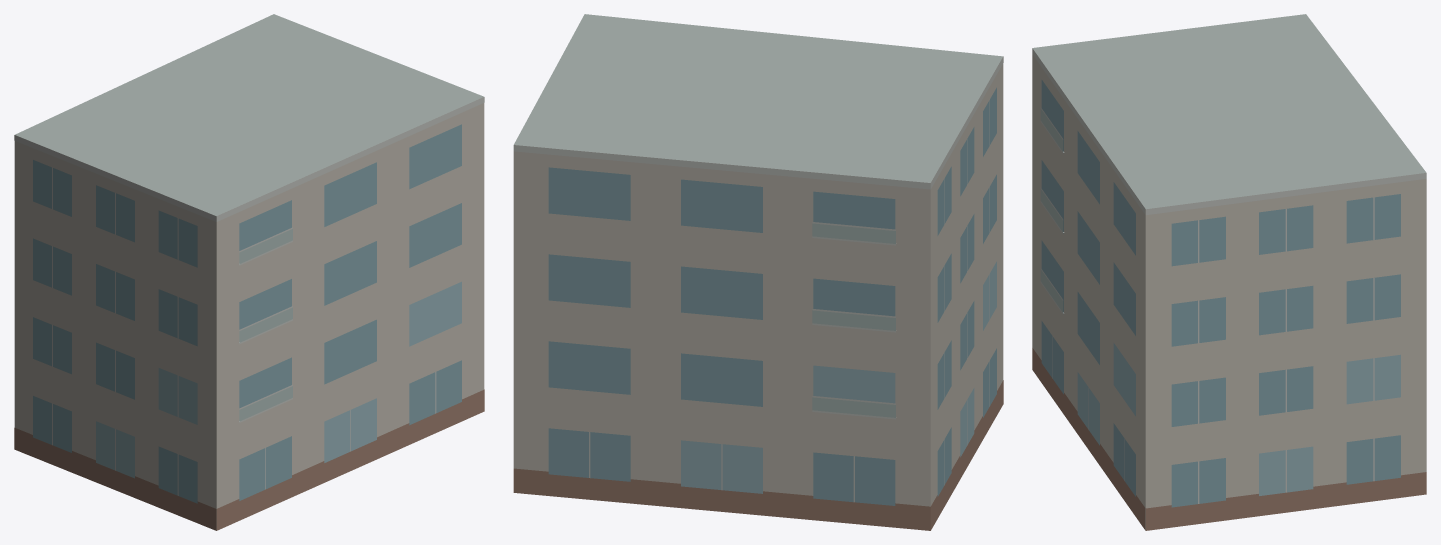
File: survey-upis-32698182.glb
The picture shows the model from 3 angles, left to right: view 1: azimuth 30°, elevation 25°; view 2: azimuth 150°, elevation 25°; view 3: azimuth 270°, elevation 25°; orthographic projection. The views are drawn at different scales.
Parts seen in each view (by area): view 1: survey-upis-32698182.tmp; view 2: survey-upis-32698182.tmp; view 3: survey-upis-32698182.tmp.
Part boxes in pixels (x1,y1,x2,y2): survey-upis-32698182.tmp: [14, 14, 484, 530]; survey-upis-32698182.tmp: [513, 14, 1003, 530]; survey-upis-32698182.tmp: [1032, 14, 1426, 530].
Size of the model in its own units: 17.07 by 13.1 by 14.57.
